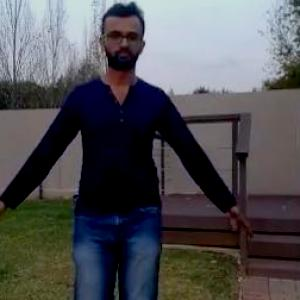land: (0, 13, 240, 299)
